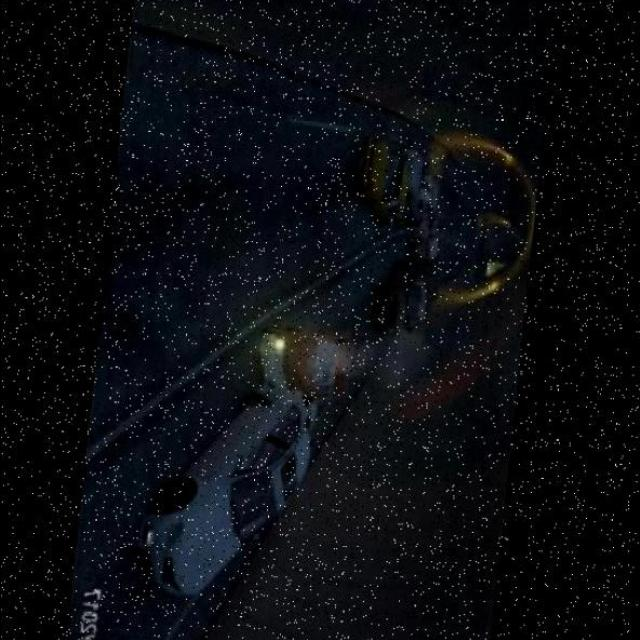accident: (131, 303, 365, 615)
